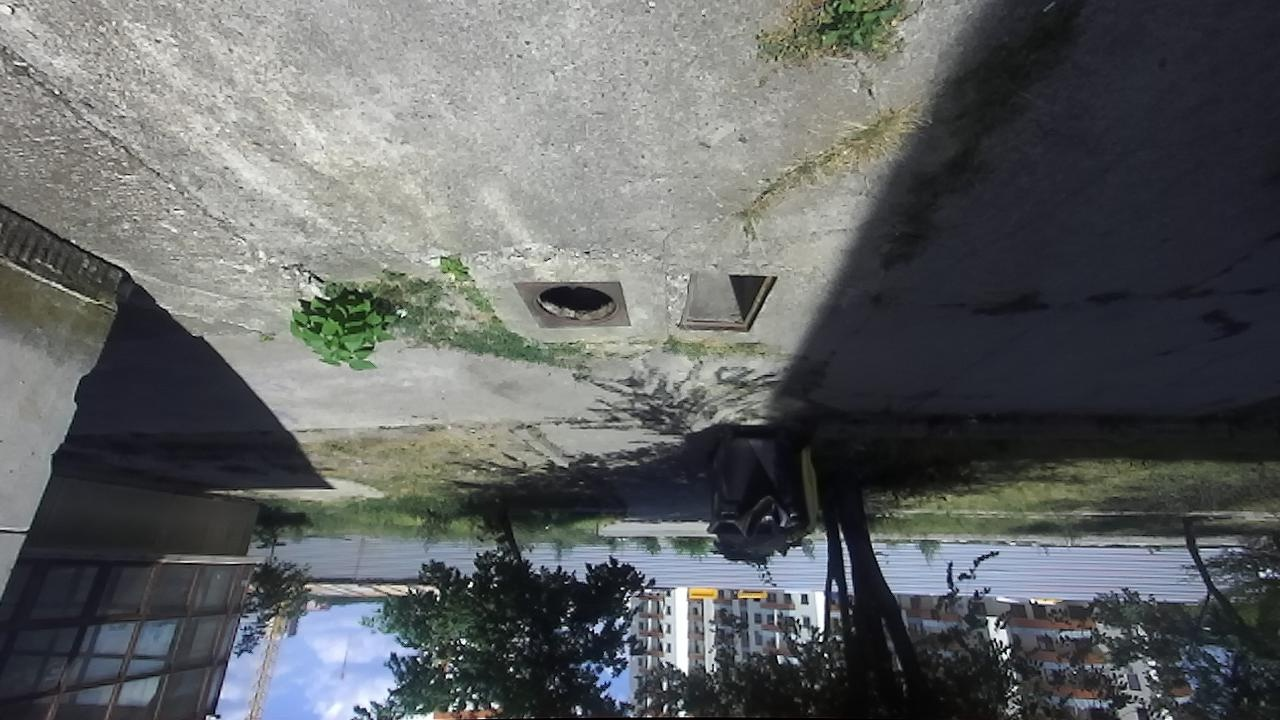drain: (673, 270, 778, 338), (529, 283, 618, 326)
